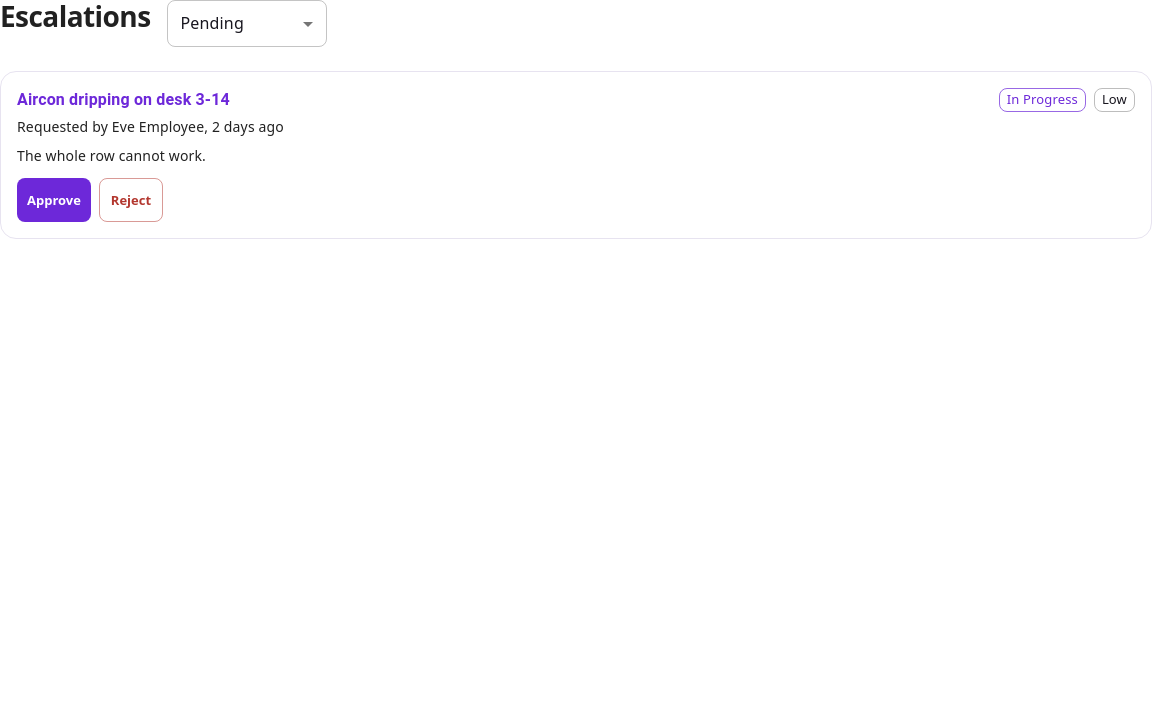
Test: EscalationsPage › rejects without a note and keeps the dialog open on a refusal
This screenshot has width=1152, height=720.
Click the button "Reject". click: [131, 200]
box: [99, 178, 163, 222]
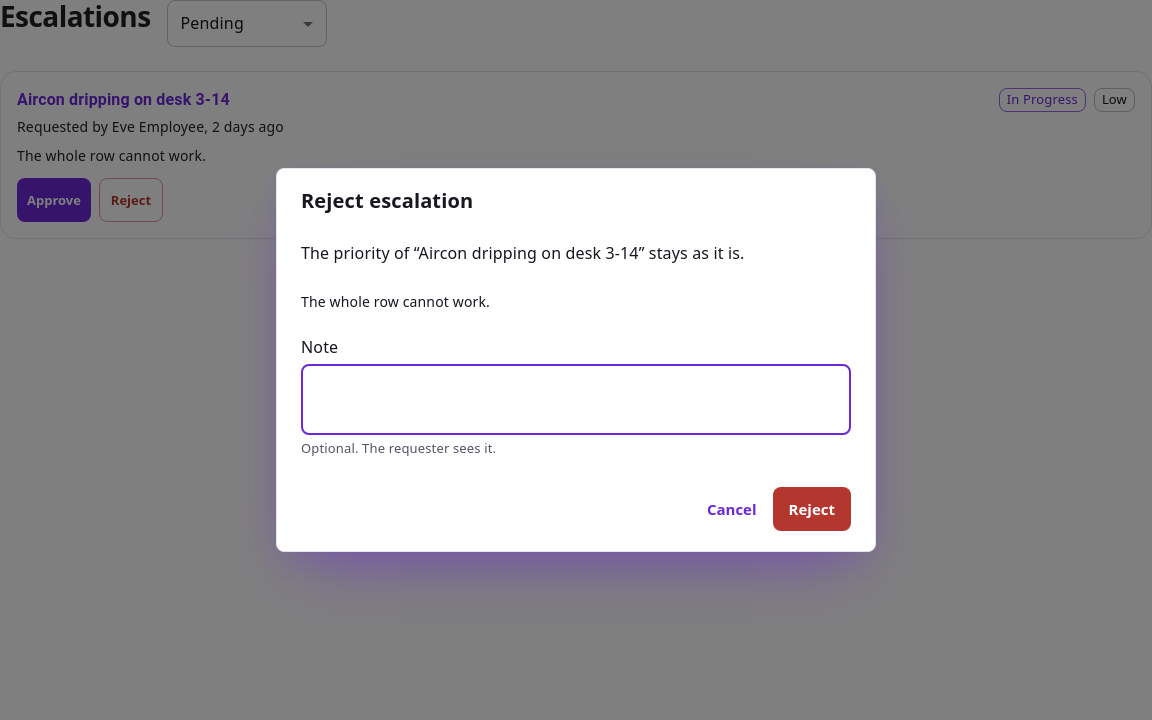
Click the button "Reject". click: [812, 509]
box: [773, 487, 851, 531]
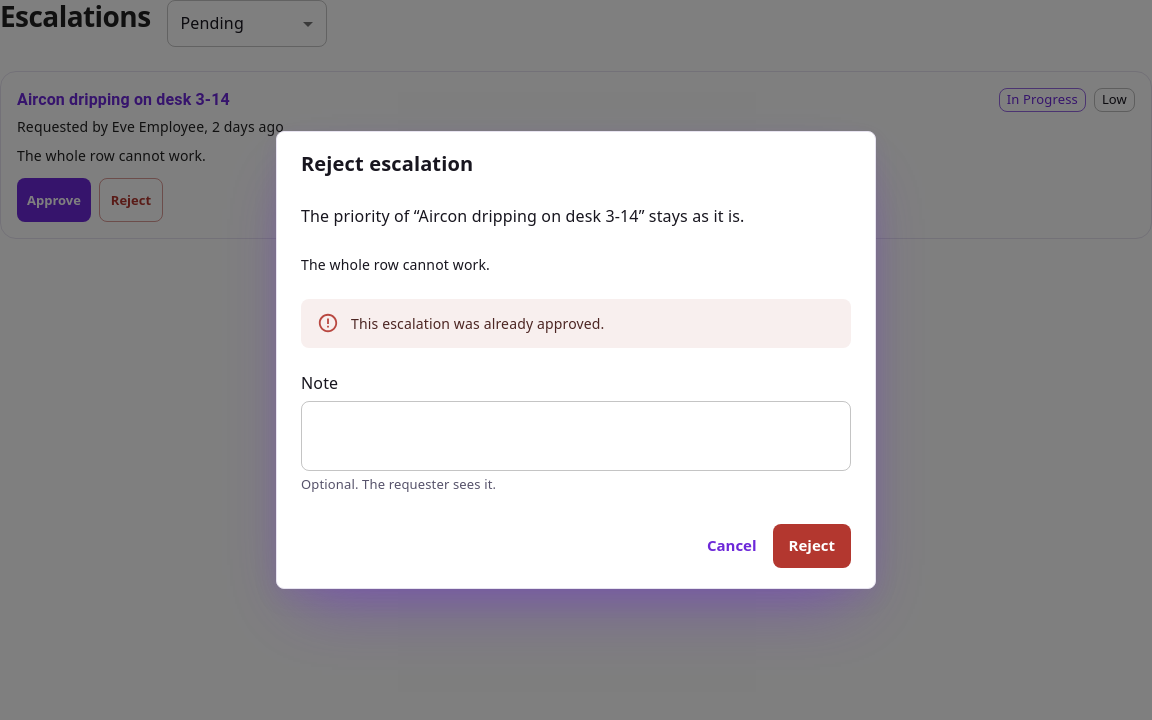
Check: the text "This escalation was already approved." is shown, box [351, 314, 604, 333]
Click the button "Reject". click: [812, 546]
box: [773, 524, 851, 568]
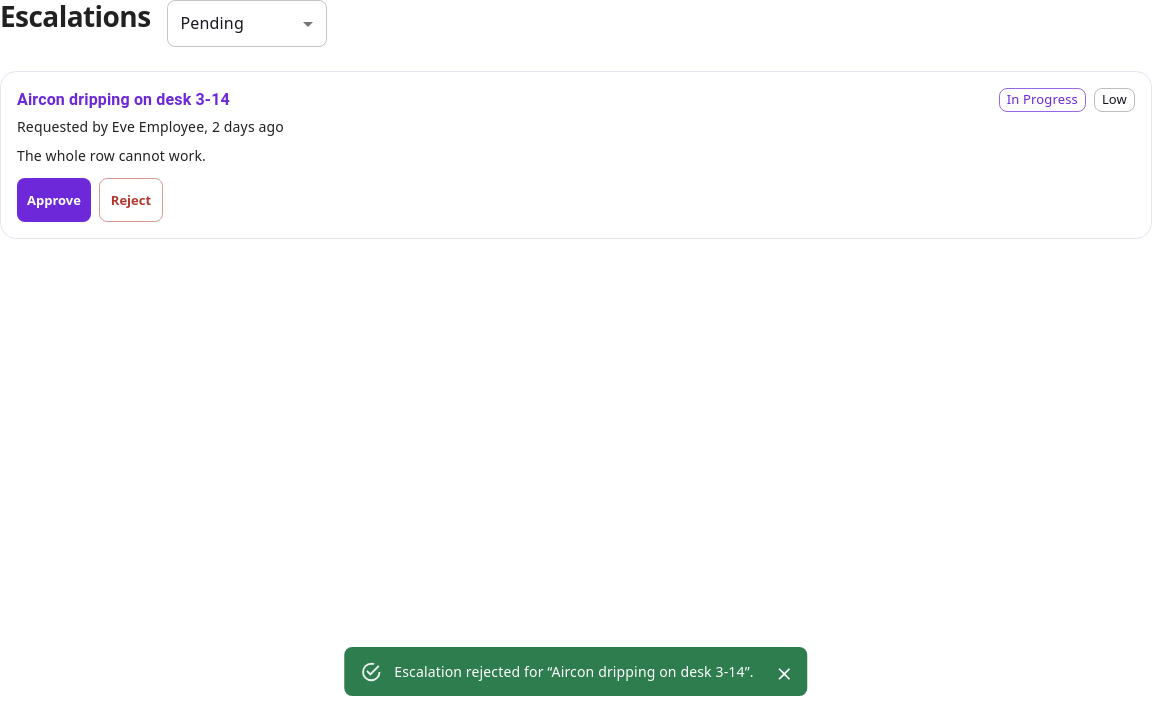
Check: the message reads "Escalation rejected for “Aircon dripping on desk 3-14”.", box [394, 662, 754, 681]
Check: the dialog is gone
